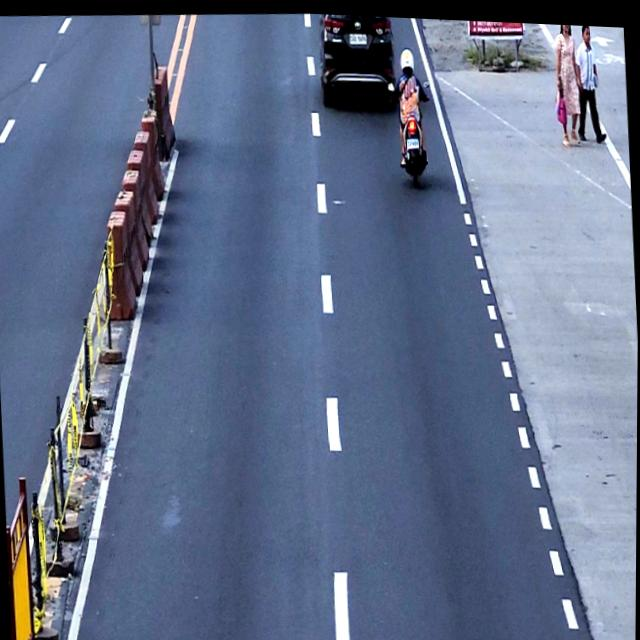Car: (316, 11, 398, 106)
License-Plate: (348, 28, 368, 43), (407, 134, 420, 146)
Motorcycle: (392, 76, 435, 186)
